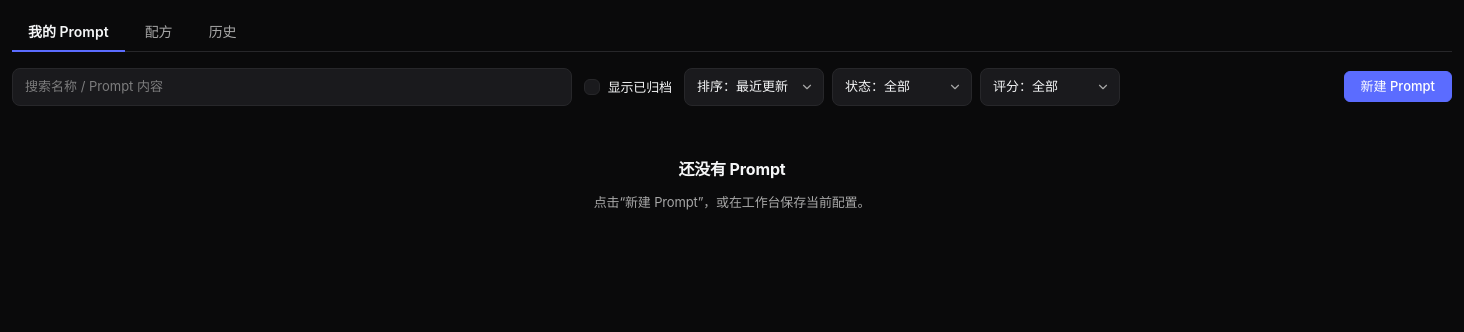
Scenario: PromptPage 提示词中心 › 三个页签可切换，各自显示空状态
Expected: the heading "还没有 Prompt" is shown, [678,158,786,178]
Click the tab "配方": [159, 32] box [129,12,189,52]
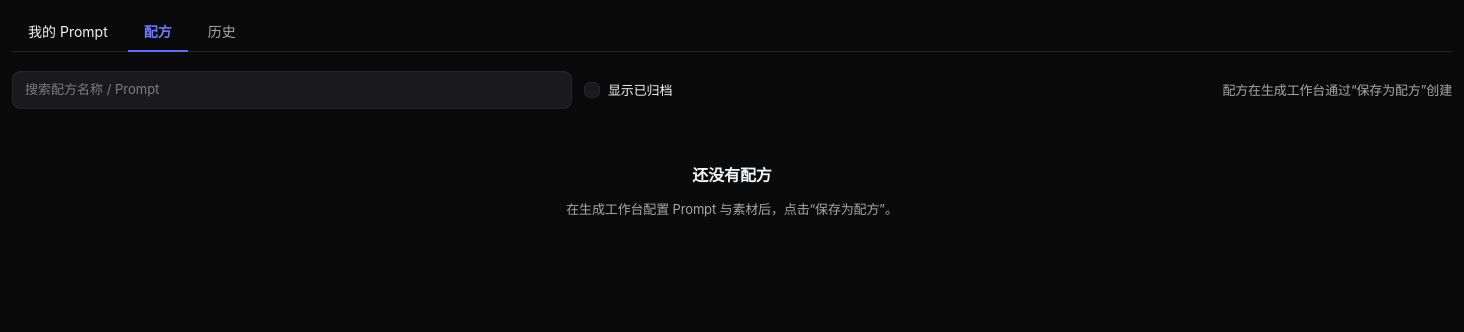
Now the heading "还没有配方" is shown, box [692,165,772,185]
Click the tab "历史": [222, 32] box [192,12,252,52]
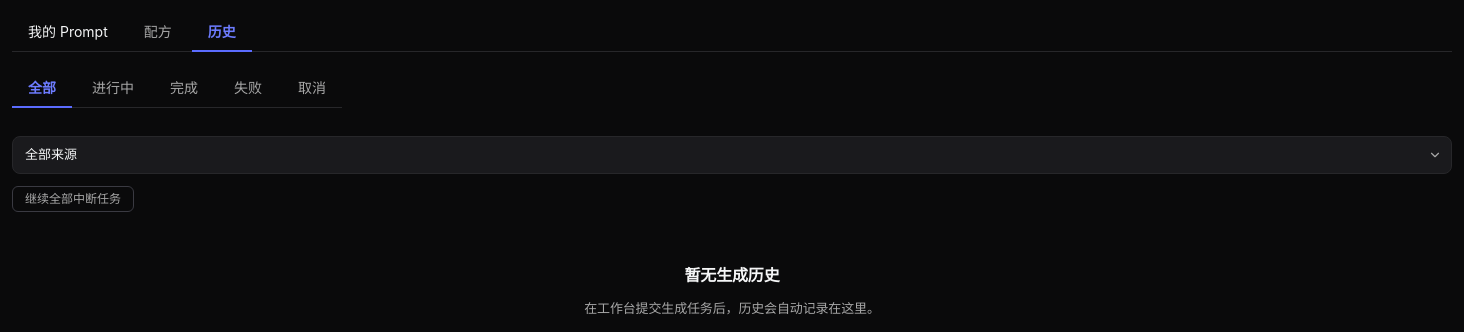
Now the heading "暂无生成历史" is shown, box [684,264,780,284]
